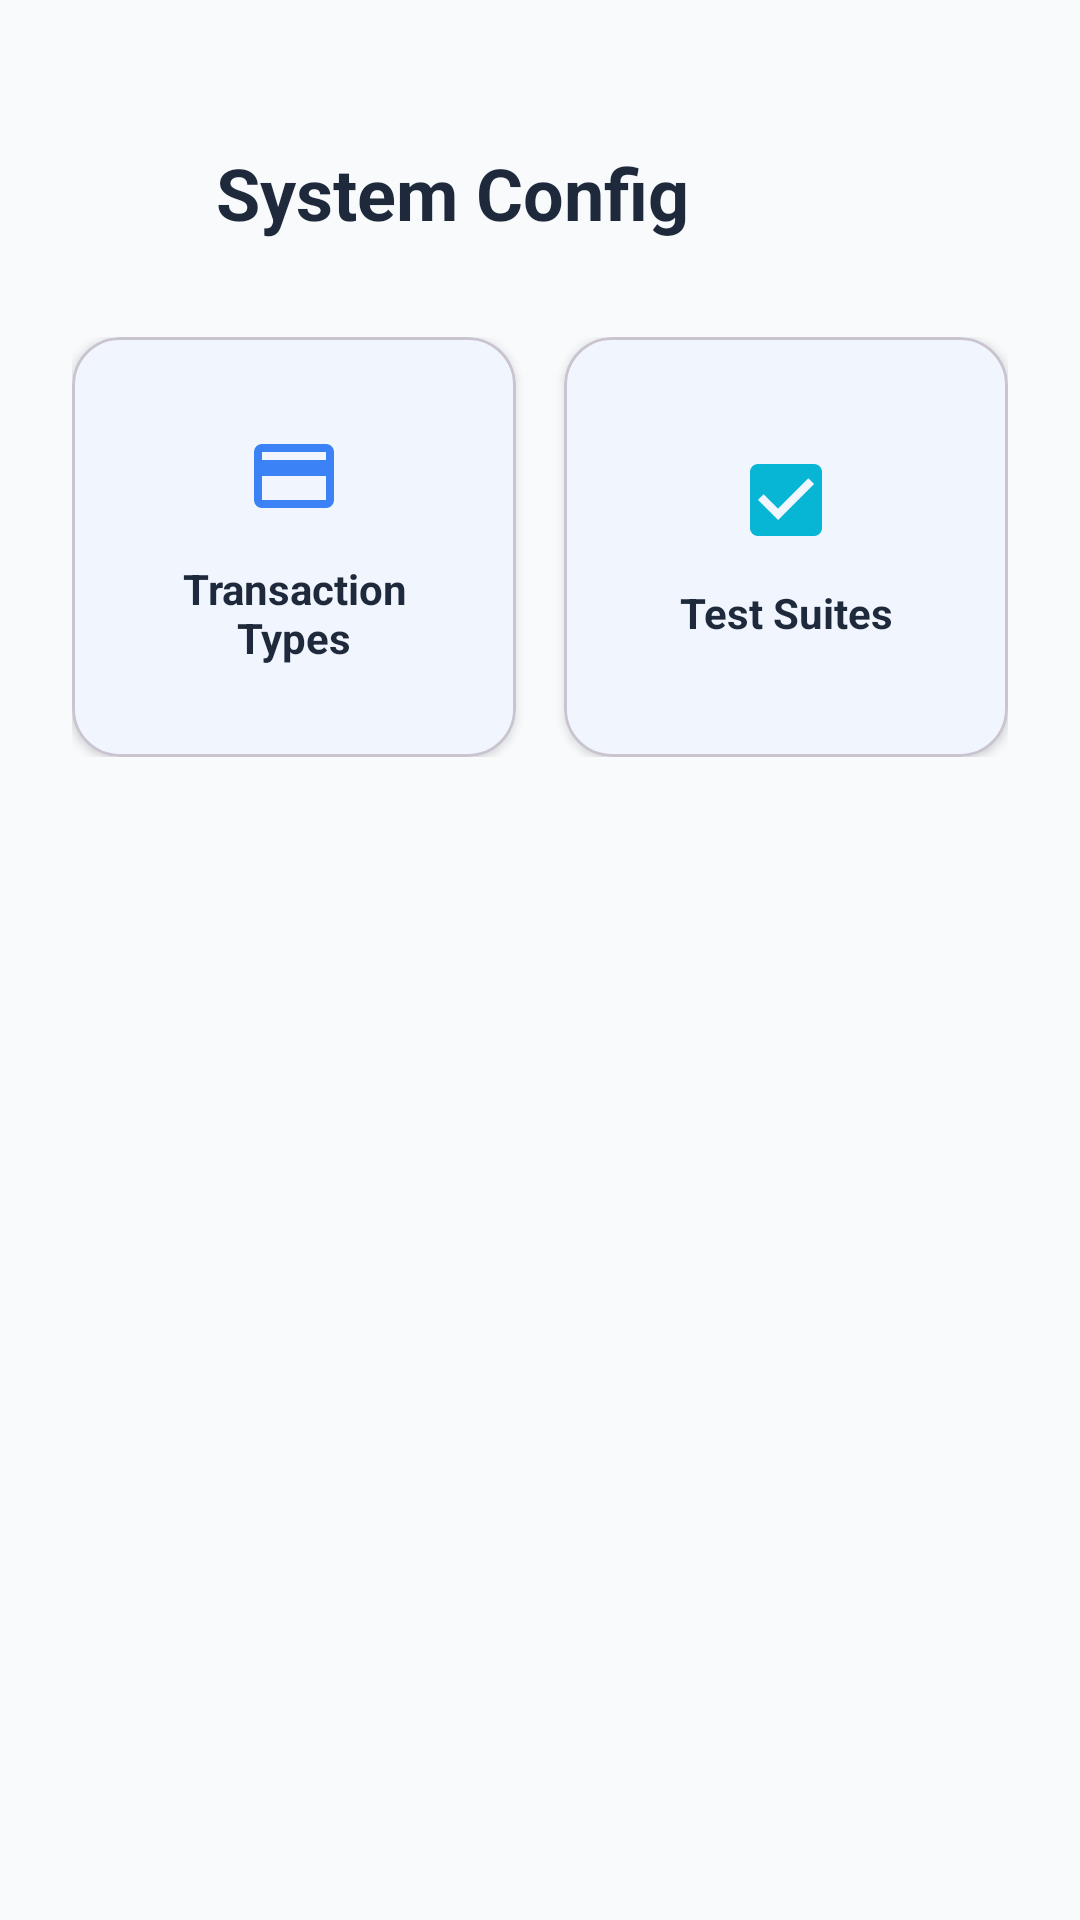

Where to tap for icons on this 1080×1920 app screen, as (x,y):
card: (294,476)
